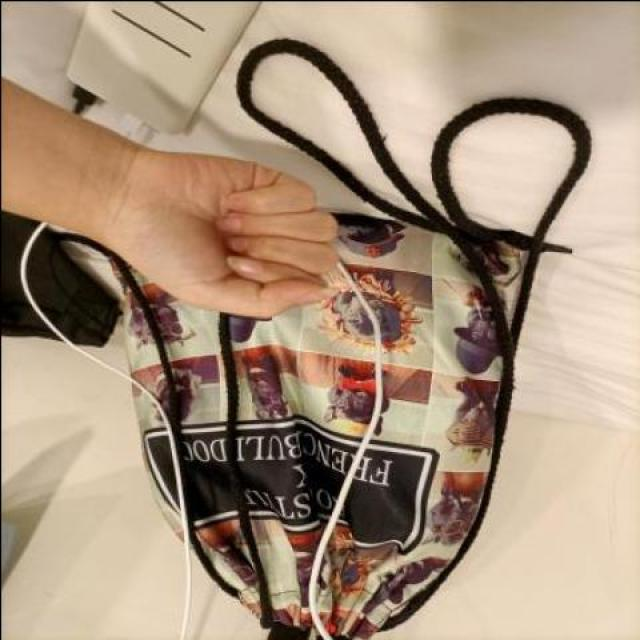Closed Hand: (104, 125, 347, 332)
